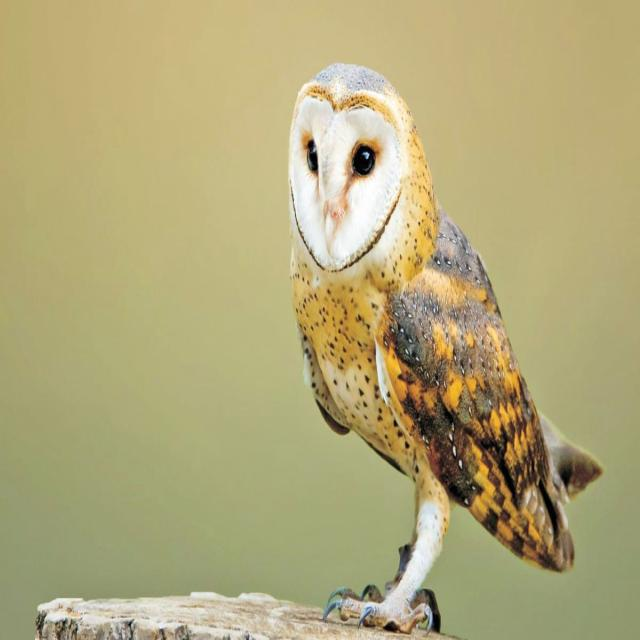owl: (289, 64, 602, 632)
